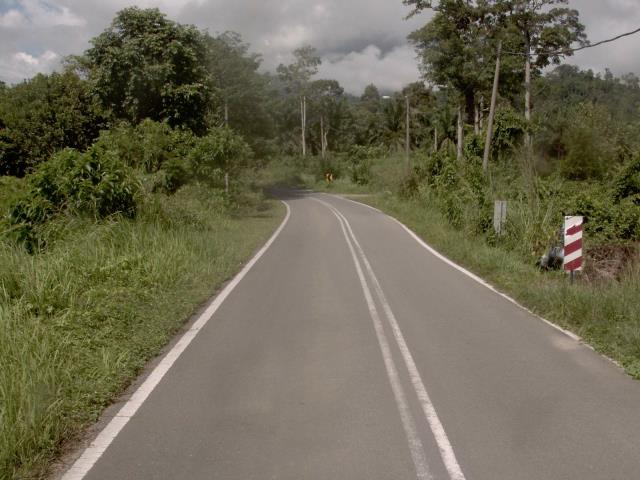traffic_sign: (556, 209, 592, 281)
